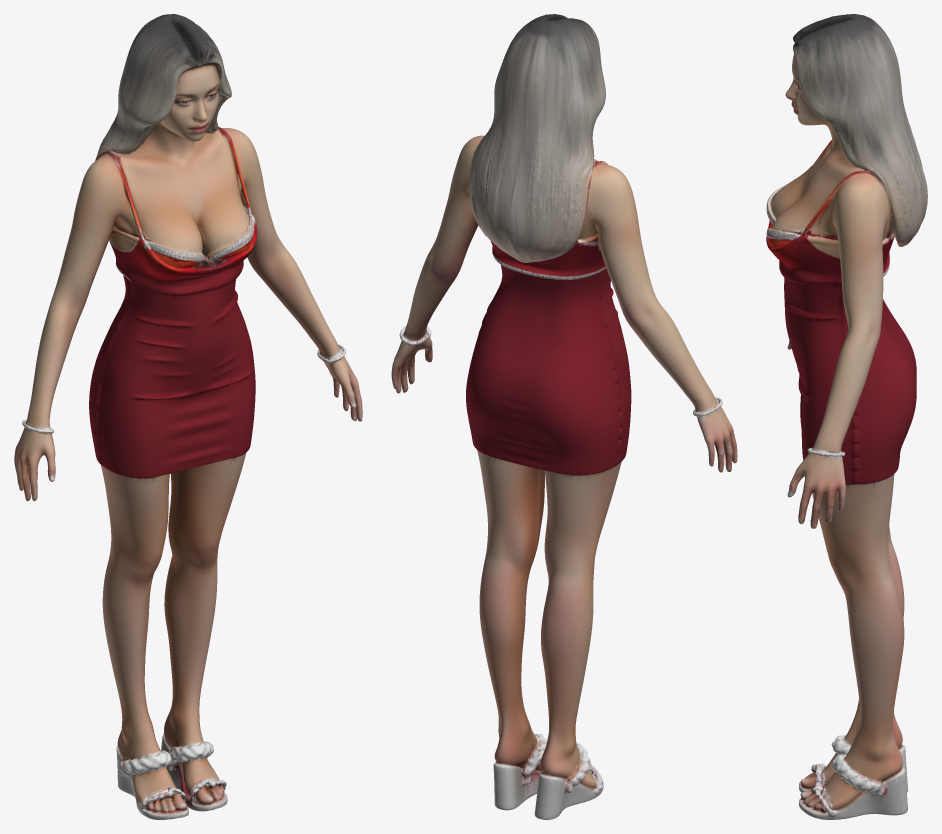
File: rebeca.glb
3 renders of one model, left to right at view 1: azimuth 30°, elevation 25°; view 2: azimuth 150°, elevation 25°; view 3: azimuth 270°, elevation 25°, orthographic.
Size of the model in its own units: 0.8533 by 1.9 by 0.3549.
1 material, 1 textured.
